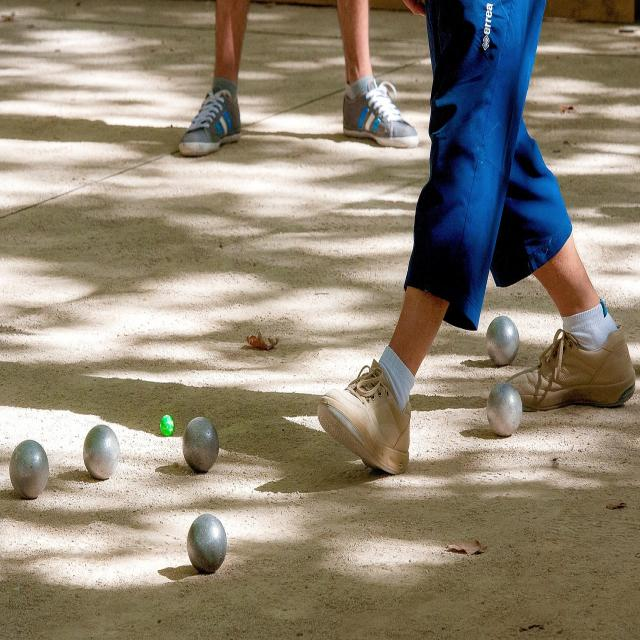hatball: (157, 411, 176, 441)
petanque: (3, 437, 58, 509), (181, 512, 234, 583), (482, 374, 528, 454), (77, 421, 126, 494), (176, 412, 223, 474), (482, 314, 526, 370)
